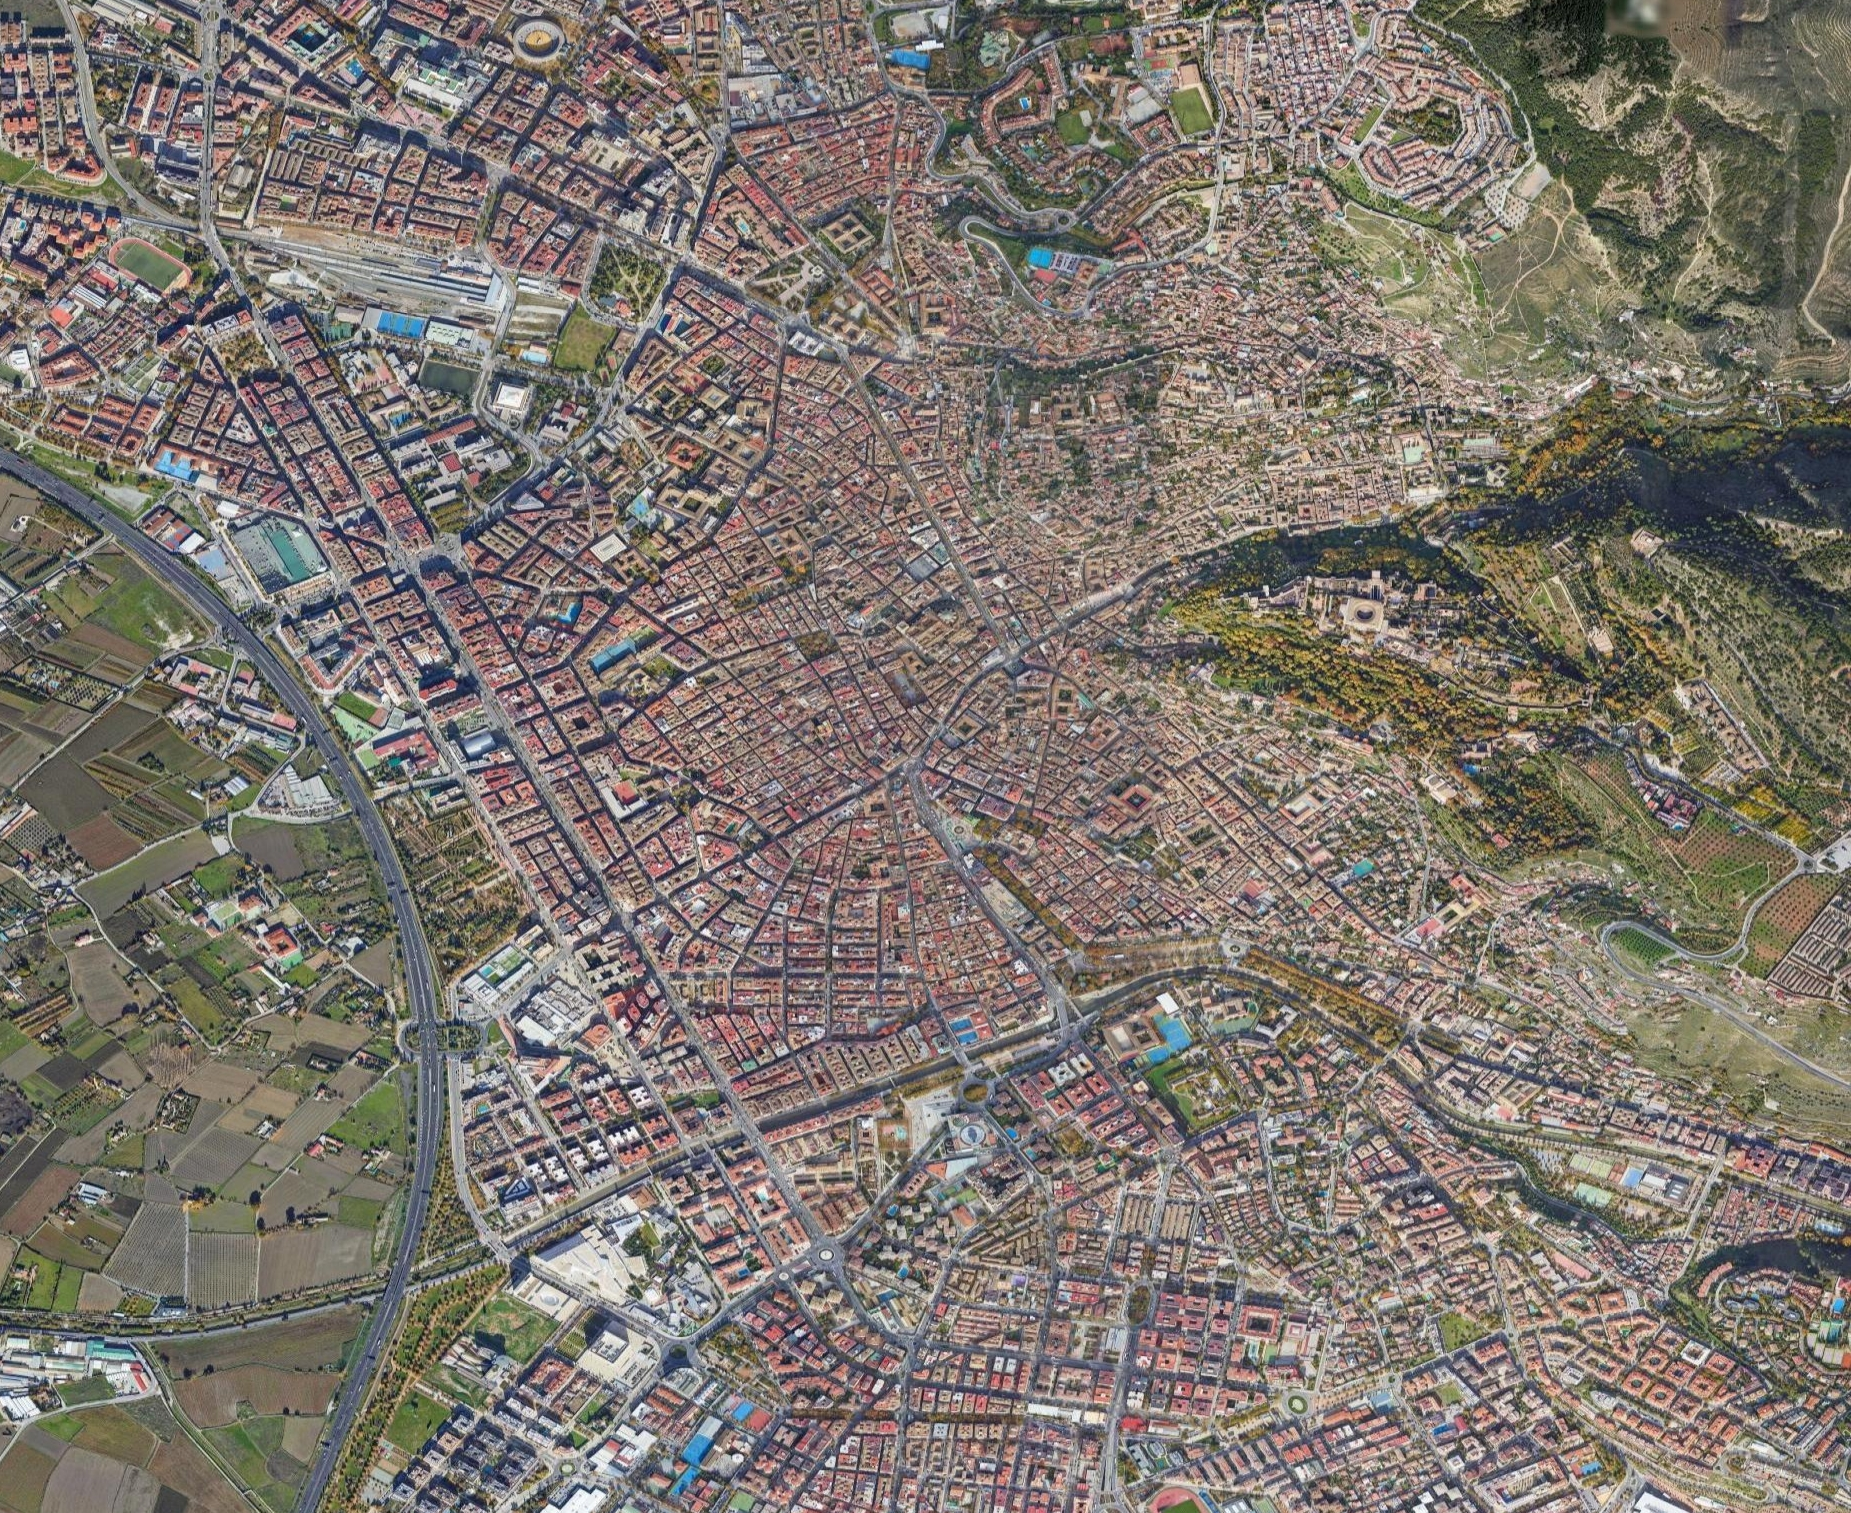motorway: (2, 431, 500, 1513)
